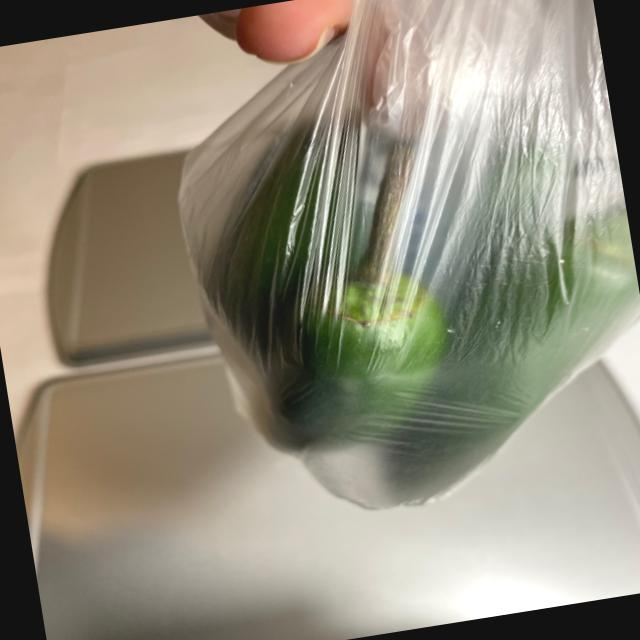chilli: (169, 41, 640, 553)
